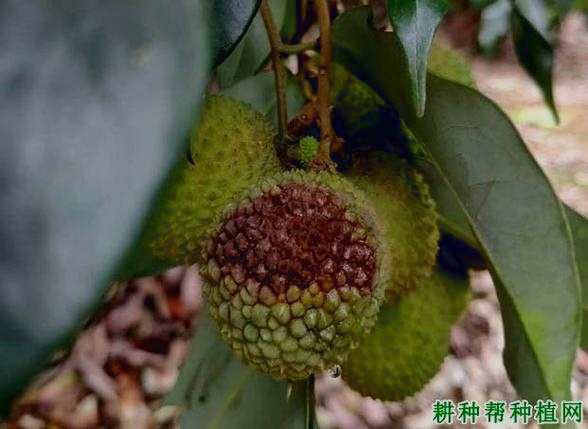Frost_Blight: (215, 193, 378, 310)
